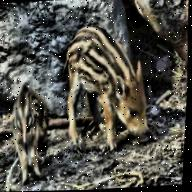boar: (56, 18, 168, 160)
